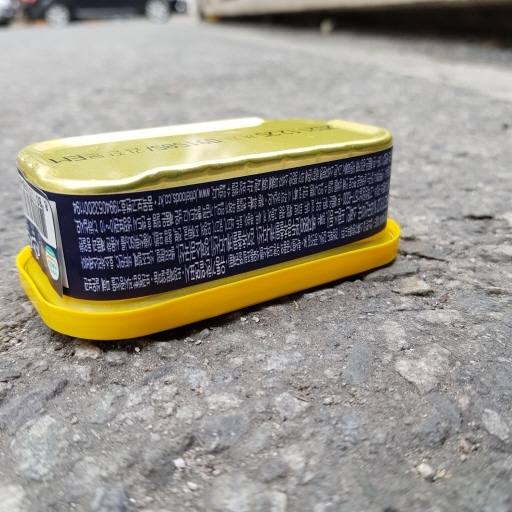Metal_2: (15, 108, 406, 346)
